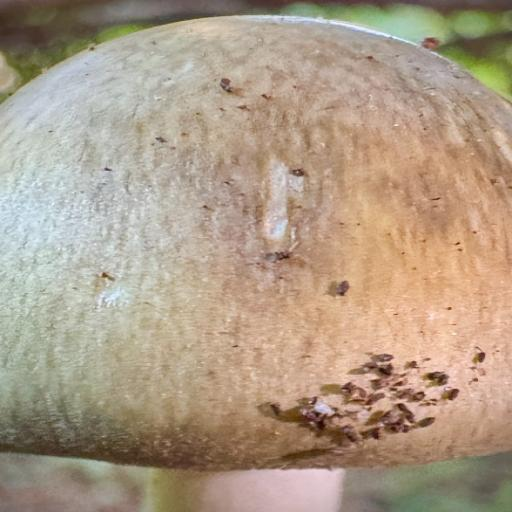mushroom: (0, 20, 511, 478)
